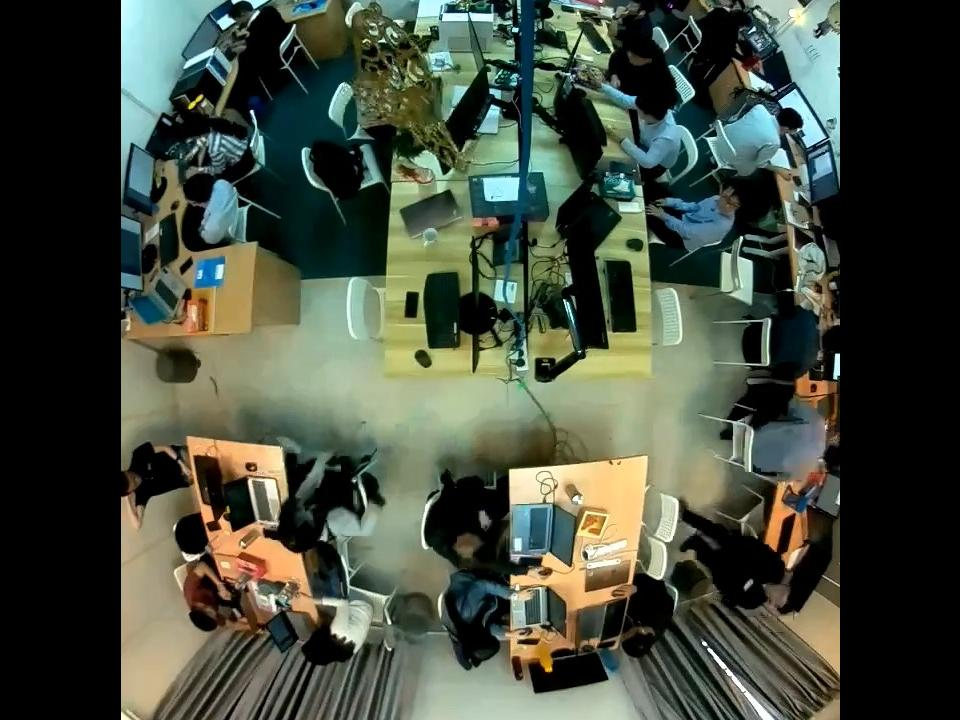name-tag: (738, 576, 754, 592)
